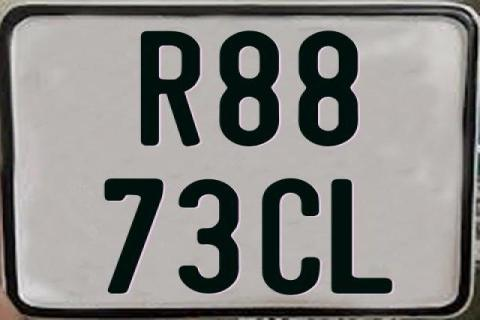0: (219, 28, 285, 144), (177, 179, 243, 293), (297, 30, 359, 148), (102, 178, 164, 296)
C: (262, 178, 326, 300)
L: (330, 177, 392, 293)
R: (138, 29, 201, 145)
